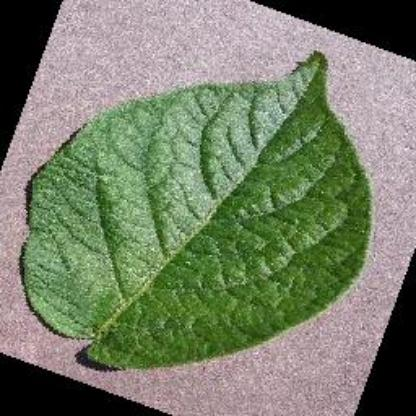Healthy-plant: (13, 47, 381, 367)
